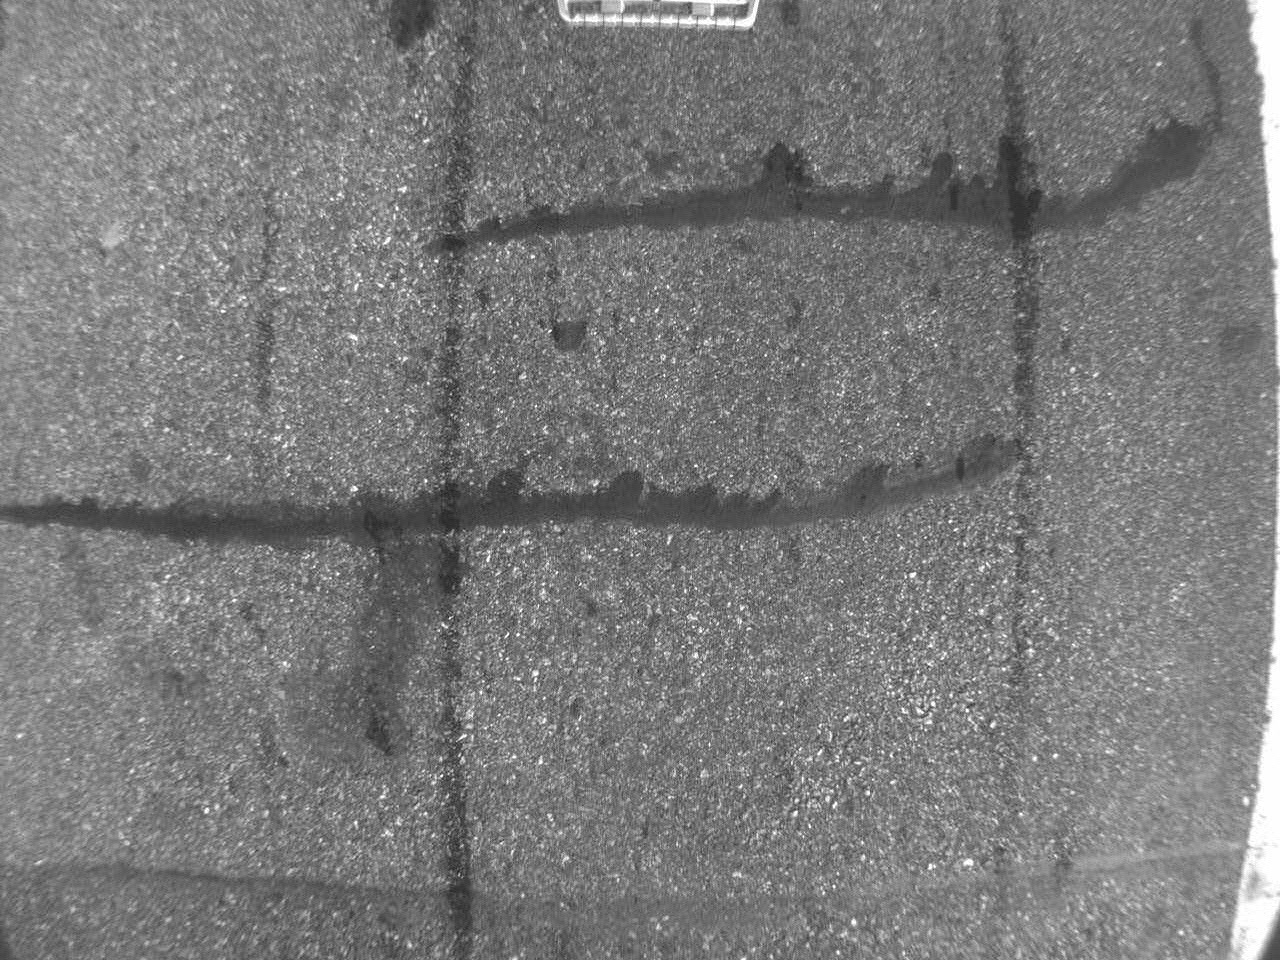sealed: (428, 108, 1213, 260), (1, 441, 1057, 542)
